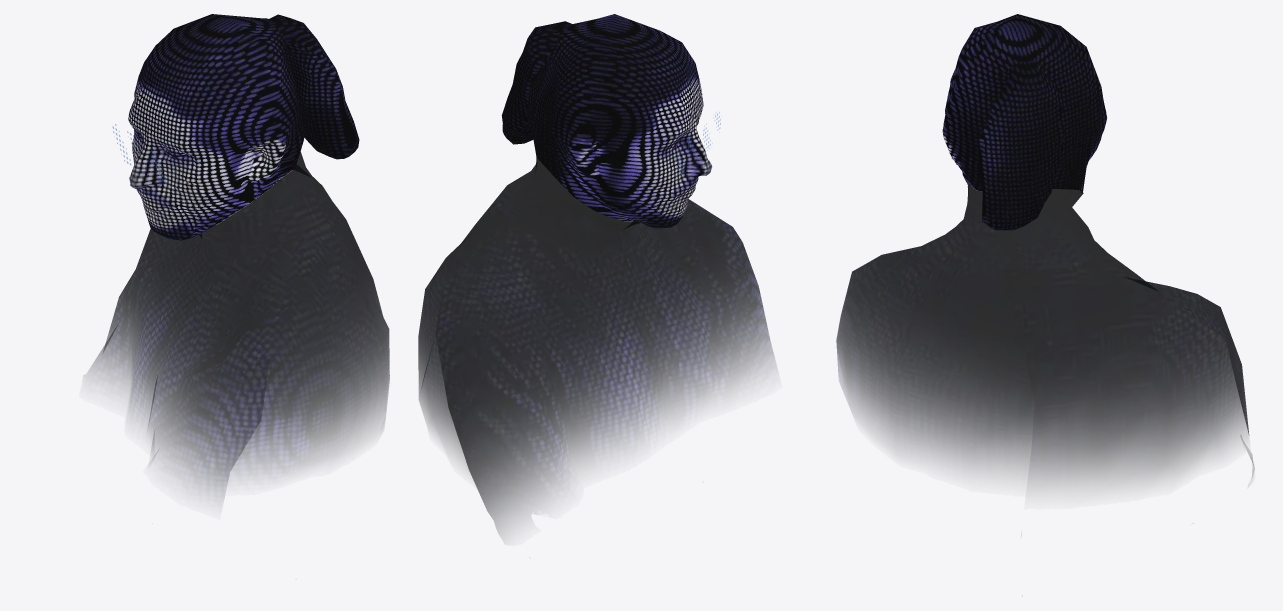
Rendered from Andres_V1_Hologram_optimized.glb.
3 renders of one model, left to right at view 1: azimuth 30°, elevation 25°; view 2: azimuth 150°, elevation 25°; view 3: azimuth 270°, elevation 25°, orthographic. The views are drawn at different scales.
Visible parts, largest first — view 1: Andres_Hologram_Ex; view 2: Andres_Hologram_Ex; view 3: Andres_Hologram_Ex.
Part boxes in pixels (box(x1,y1,x2,y2)): Andres_Hologram_Ex: box(86, 14, 389, 499); Andres_Hologram_Ex: box(418, 14, 776, 535); Andres_Hologram_Ex: box(836, 14, 1254, 487).
Size of what is drawn, in the model's own units: 68.31 by 102 by 79.41.
3 materials, 3 textured.
